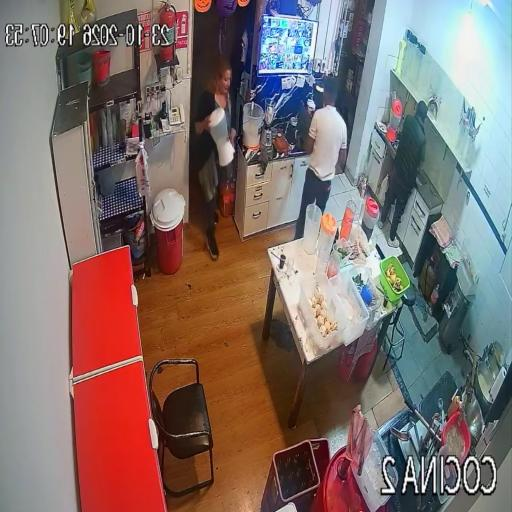CajaCerveza: (261, 439, 329, 512)
